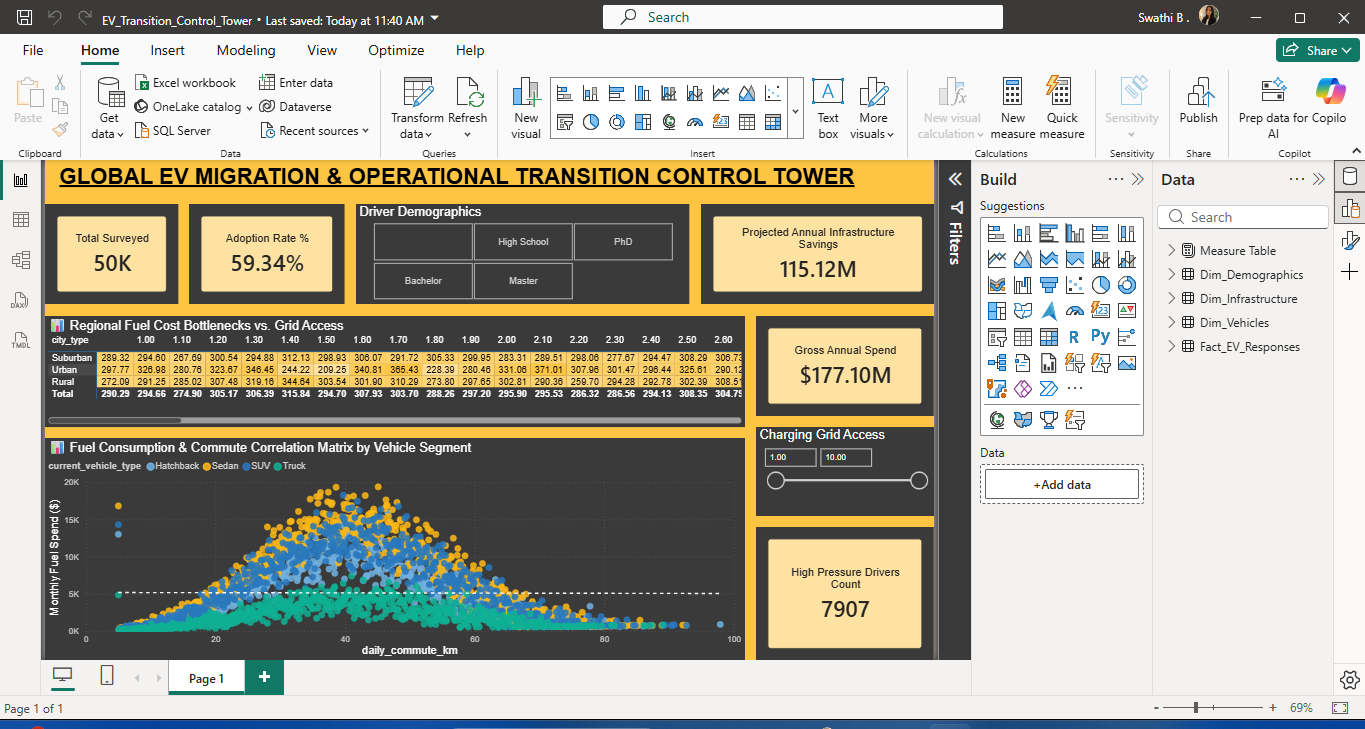

The dashboard page shown, as its layout file describes it:
{"tool":"powerbi","page":{"name":"Page 1","canvas":[1280,720],"ordinal":0},"visuals":[{"type":"textbox","box":[16,0,1264,64],"z":0},{"type":"cardVisual","fields":{"Data":["Measure Table.Total Surveyed"]},"box":[0,64,192,144],"z":1000},{"type":"cardVisual","fields":{"Data":["Measure Table.Gross Annual Spend"]},"box":[1024,224,256,144],"z":2000},{"type":"cardVisual","fields":{"Data":["Measure Table.Projected Annual Infrastructure Savings"]},"box":[944,64,336,144],"z":3000},{"type":"slicer","title":"Charging Grid Access","fields":{"Values":["Dim_Infrastructure.charging_station_accessibility"]},"box":[1024,384,256,128],"z":4000},{"type":"slicer","title":"Driver Demographics","fields":{"Values":["Dim_Demographics.education_level"]},"box":[448,64,480,144],"z":5000},{"type":"pivotTable","title":"📊 Regional Fuel Cost Bottlenecks vs. Grid Access","fields":{"Rows":["Dim_Infrastructure.city_type"],"Values":["Avg(Fact_EV_Responses.fuel_expense_per_month)"],"Columns":["Dim_Infrastructure.charging_station_accessibility"]},"box":[0,224,1008,160],"z":6000},{"type":"cardVisual","fields":{"Data":["Measure Table.Adoption Rate %"]},"box":[208,64,224,144],"z":7000},{"type":"scatterChart","title":"📊 Fuel Consumption & Commute Correlation Matrix by Vehicle Segment","fields":{"X":["Fact_EV_Responses.daily_commute_km"],"Y":["Sum(Fact_EV_Responses.fuel_expense_per_month)"],"Series":["Dim_Vehicles.current_vehicle_type"]},"box":[0,400,1008,320],"z":8000},{"type":"cardVisual","fields":{"Data":["Measure Table.High Pressure Drivers Count"]},"box":[1024,528,256,192],"z":9000}]}

Visuals, with their boxes on the page's 1280x720 design canvas (x1, y1, x2, y2). These are canvas units, not pixel positions in the 1365x729 screenshot, which may show the page scaled, cropped or inside an application window:
textbox: detection(16, 0, 1280, 64)
cardVisual - Measure Table.Total Surveyed: detection(0, 64, 192, 208)
cardVisual - Measure Table.Gross Annual Spend: detection(1024, 224, 1280, 368)
cardVisual - Measure Table.Projected Annual Infrastructure Savings: detection(944, 64, 1280, 208)
"Charging Grid Access" slicer: detection(1024, 384, 1280, 512)
"Driver Demographics" slicer: detection(448, 64, 928, 208)
"📊 Regional Fuel Cost Bottlenecks vs. Grid Access" pivotTable: detection(0, 224, 1008, 384)
cardVisual - Measure Table.Adoption Rate %: detection(208, 64, 432, 208)
"📊 Fuel Consumption & Commute Correlation Matrix by Vehicle Segment" scatterChart: detection(0, 400, 1008, 720)
cardVisual - Measure Table.High Pressure Drivers Count: detection(1024, 528, 1280, 720)
